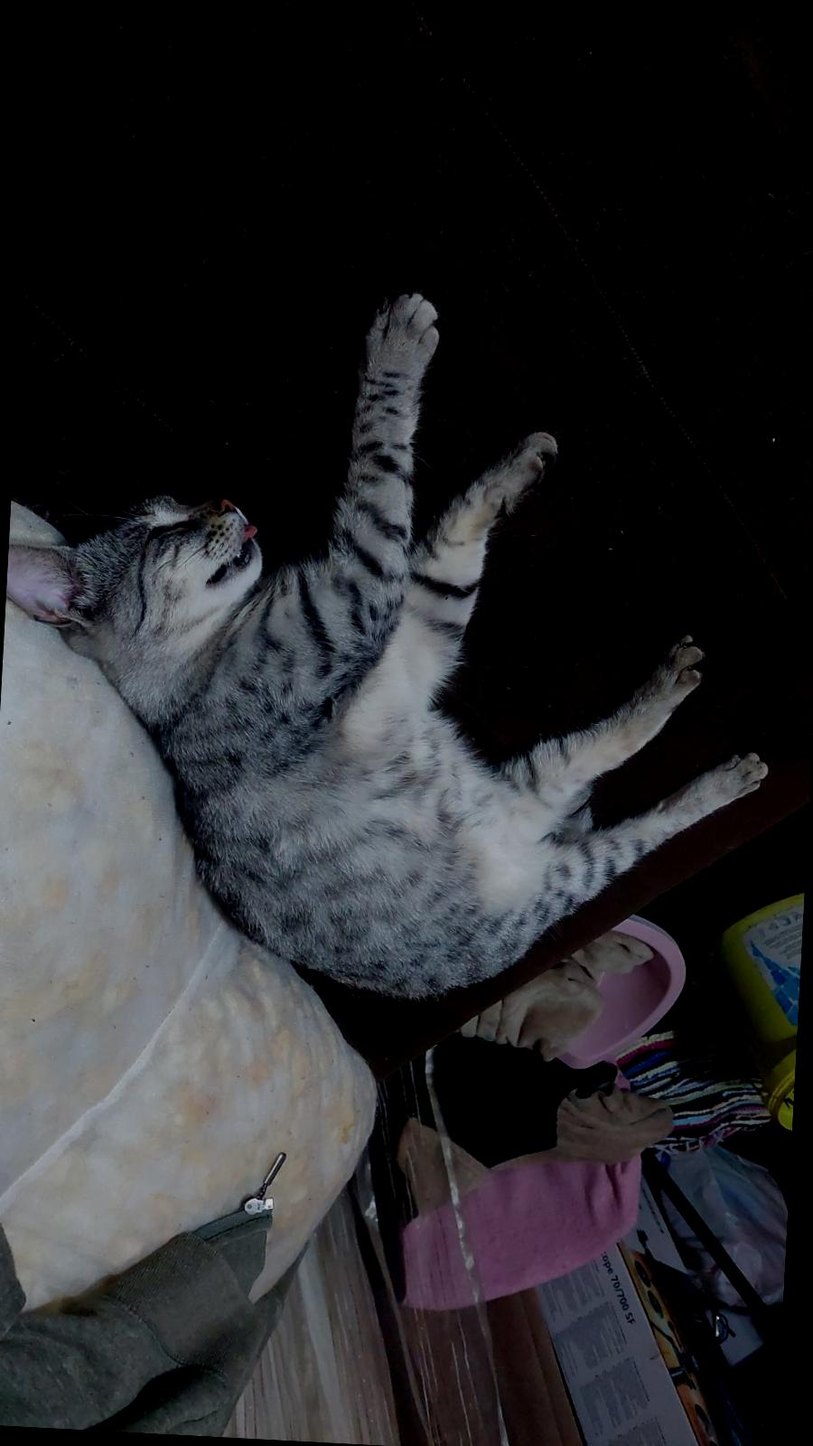macka: (0, 266, 793, 1020)
